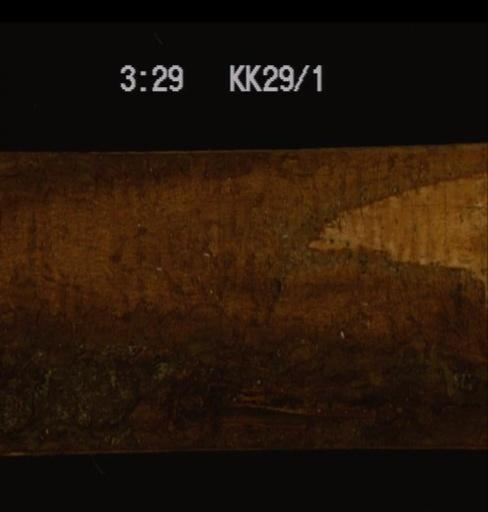wave: (0, 150, 486, 451)
